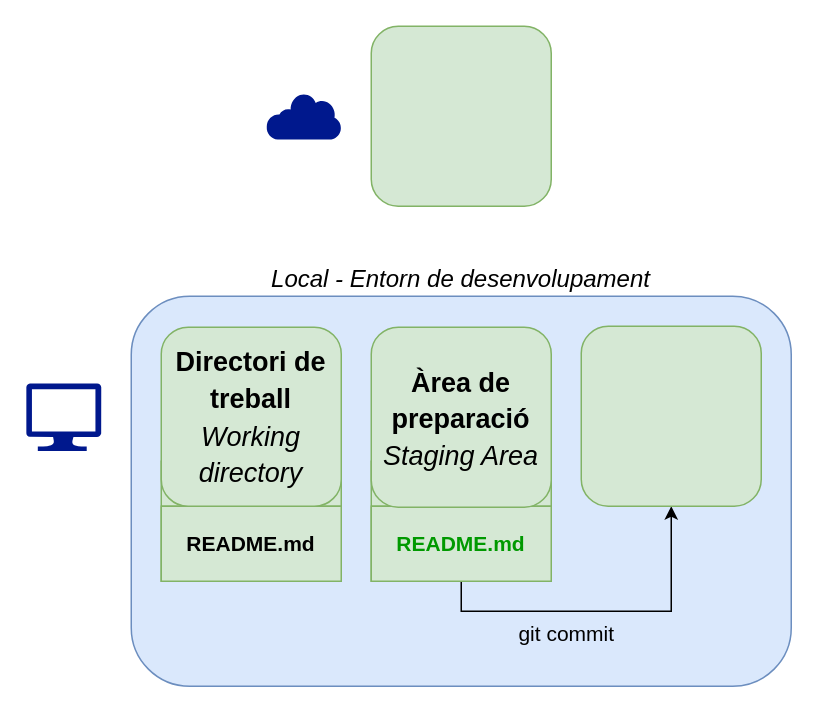
This 818x713 diagram has some shape labels left out. The centre of each missing label's shape, as x and y in pixels:
Repositori local Local Repository: (x=670, y=415)
Repositori Remot Remote Repository: (x=460, y=115)
